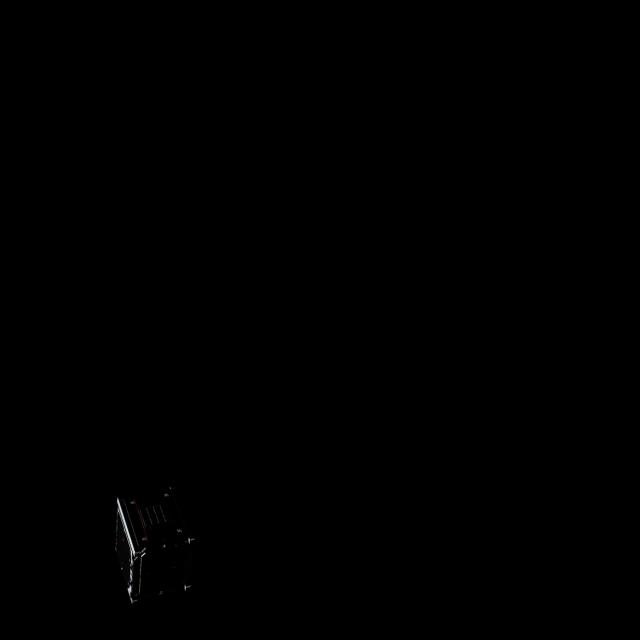satellite: (103, 478, 212, 613)
